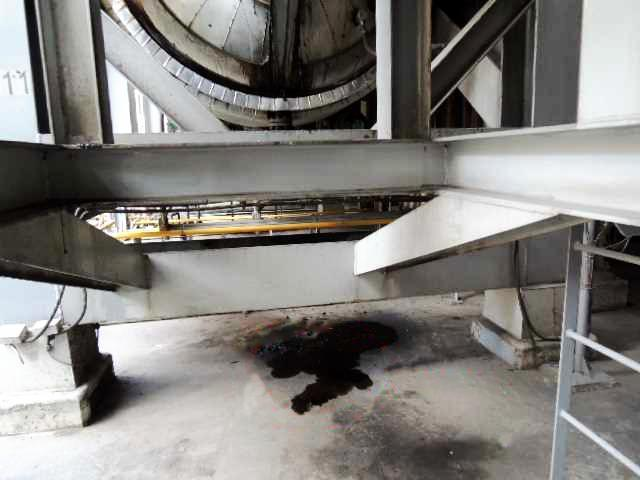water accumulation: (257, 320, 400, 414)
